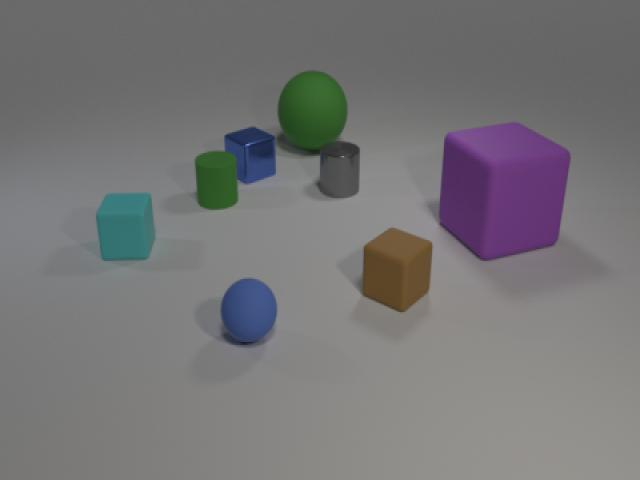cylinder: (191, 144, 241, 213), (318, 136, 363, 200)
round ball: (277, 65, 348, 151), (218, 270, 280, 348)
